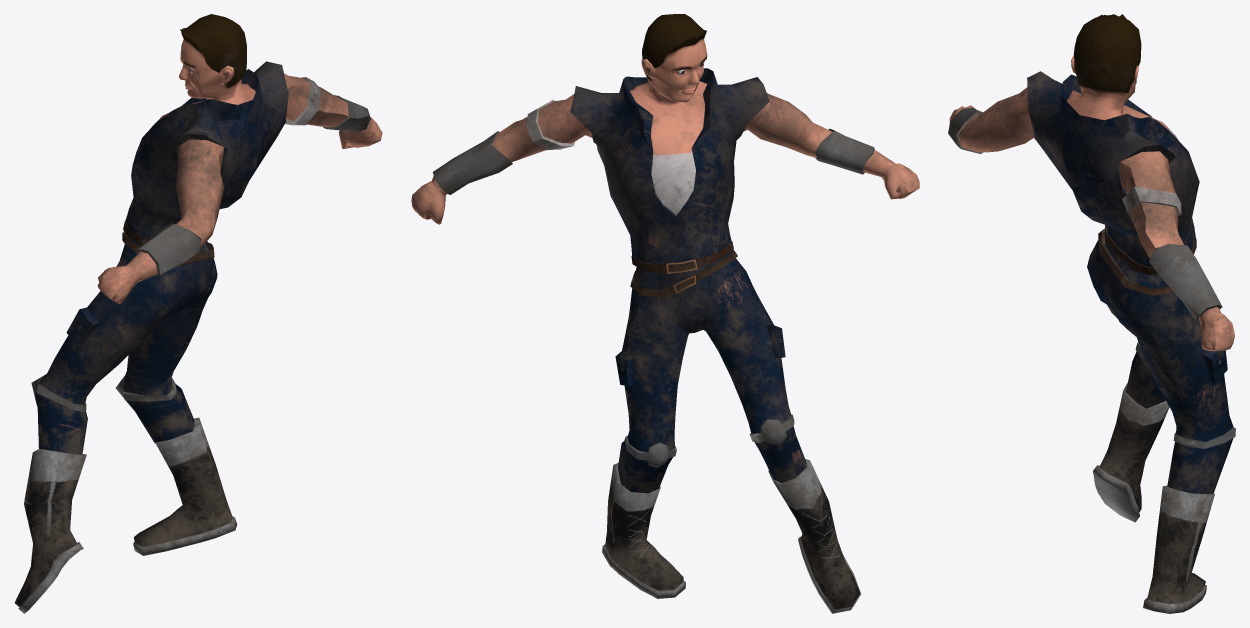
Rendered from Anim_ataque_f3_jugador.0035.obj.
The picture shows the model from 3 angles, left to right: view 1: azimuth 30°, elevation 25°; view 2: azimuth 150°, elevation 25°; view 3: azimuth 270°, elevation 25°; orthographic projection. The views are drawn at different scales.
Visible parts, largest first — view 1: polySurface1; view 2: polySurface1; view 3: polySurface1.
Boxes of the visible parts, bbox=[...] form: polySurface1: bbox=[14, 14, 382, 613]; polySurface1: bbox=[411, 14, 919, 613]; polySurface1: bbox=[948, 14, 1235, 613].
Size of the model in its own units: 7.25 by 9.46 by 4.15.
